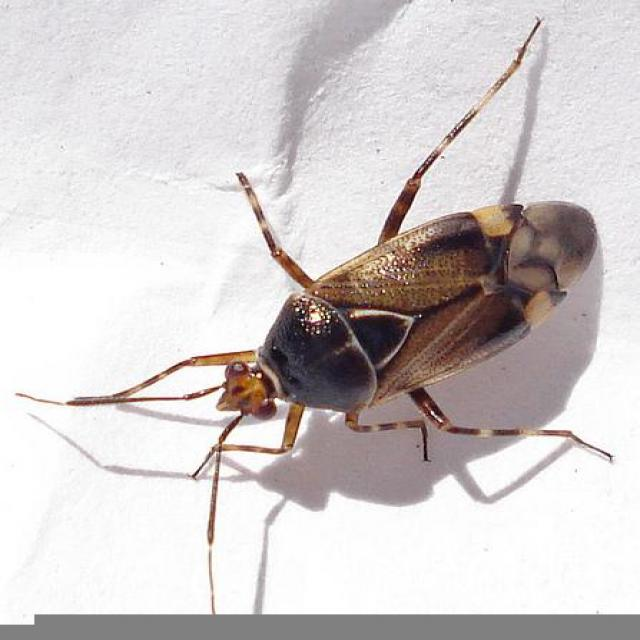Miridae-Adult-: (28, 16, 620, 512)
